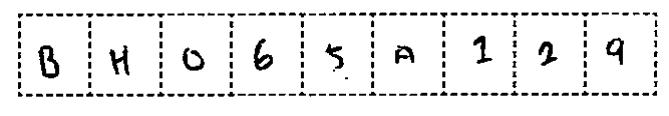0: (176, 43, 210, 76)
1: (465, 32, 498, 68)
2: (532, 34, 564, 71)
5: (318, 41, 350, 76)
6: (246, 35, 282, 77)
9: (597, 33, 631, 70)
A: (386, 40, 420, 73)
B: (34, 39, 68, 85)
H: (101, 41, 139, 83)
